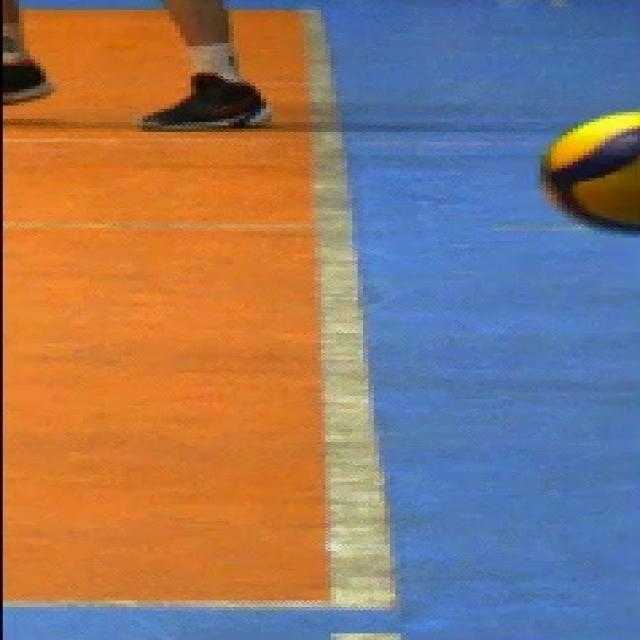Volleyball: (541, 110, 640, 234)
